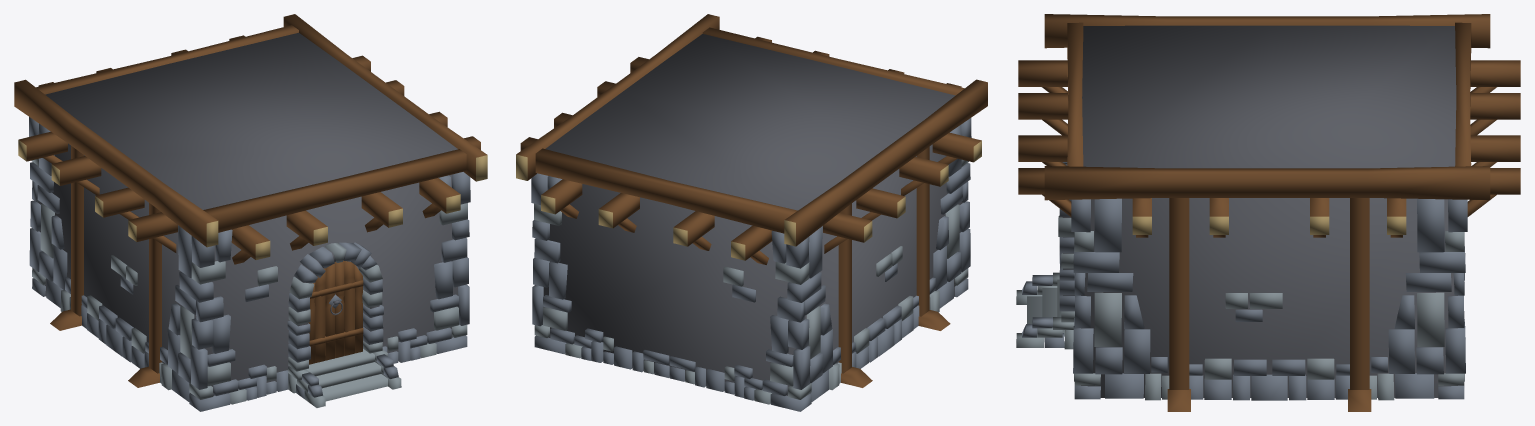
Rendered from House_4.glb.
The picture shows the model from 3 angles, left to right: view 1: azimuth 30°, elevation 25°; view 2: azimuth 150°, elevation 25°; view 3: azimuth 270°, elevation 25°; orthographic projection. The views are drawn at different scales.
Parts seen in each view (by area): view 1: House_4; view 2: House_4; view 3: House_4.
Boxes of the visible parts, x1=… form: House_4: x1=14, y1=14, x2=487, y2=411; House_4: x1=516, y1=14, x2=987, y2=411; House_4: x1=1016, y1=14, x2=1520, y2=411.
Bounding box in the file's own units: 1.94 × 1.07 × 2.12.
